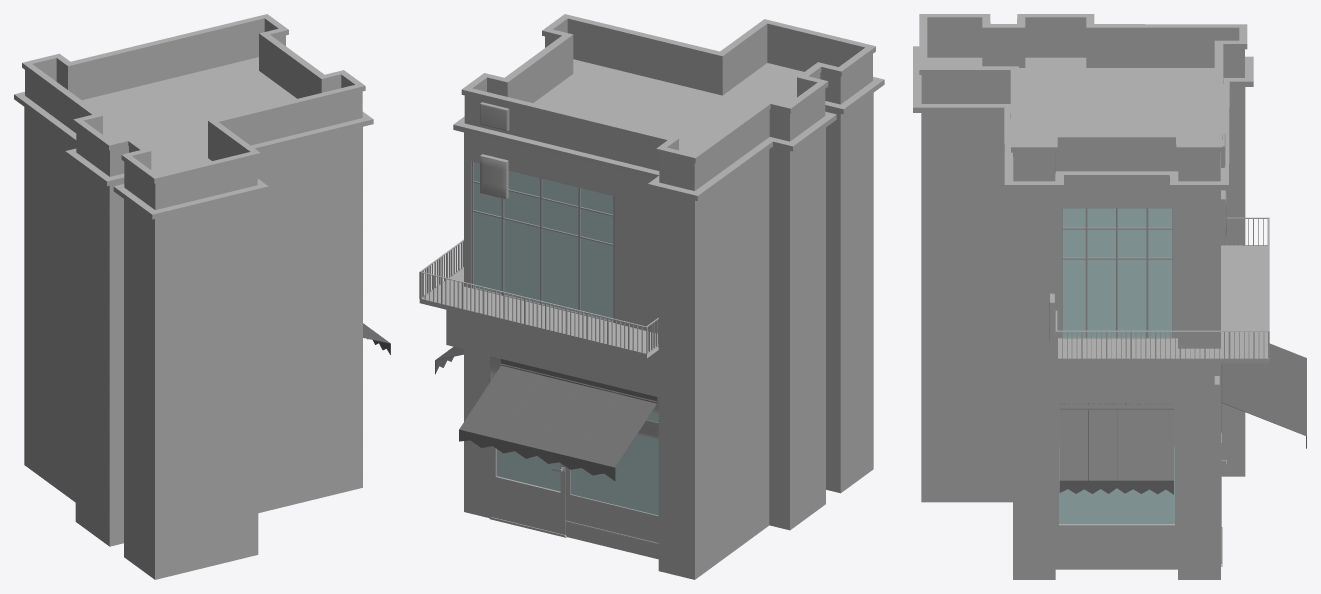
Rendered from house.fbx.
3 renders of one model, left to right at view 1: azimuth 30°, elevation 25°; view 2: azimuth 150°, elevation 25°; view 3: azimuth 270°, elevation 25°, orthographic. The views are drawn at different scales.
Visible parts, largest first — view 1: houseTop, wallPannel32 (×3), wallPannel34 (×3), wallPannel35 (×3), wallPannel33 (×3), wallPannel21 (×3), wallPannel20 (×3), wallPannel19 (×3), wallPannel22 (×3), wallPannel37 (×3), wallPannel26 (×3), wallPannel36 (×3) (+18 smaller); view 2: houseTop, windowPannel1, shelterLarge, wallPannel6 (×3), wallPannel16 (×3), wallPannel11 (×3), wallPannel29 (×3), wallPannel37 (×3), wallPannel36 (×3), wallPannel14 (×3), wallPannel13 (×3), wallPannel15 (×3) (+34 smaller); view 3: houseTop, windowPannel, wallPannel28 (×3), wallPannel31 (×3), wallPanels (×3), wallPannel7 (×3), shelterSmall, wallPannel25 (×3), glassFrame2, shelterLarge, windowFrame, wallPannel5 (×2) (+23 smaller).
Boxes of the visible parts, <box> form: houseTop: <box>14,14,373,219</box>; wallPannel32 (×3): <box>233,194,258,560</box>; wallPannel34 (×3): <box>184,206,209,572</box>; wallPannel35 (×3): <box>160,212,184,578</box>; wallPannel33 (×3): <box>209,200,233,566</box>; wallPannel21 (×3): <box>289,139,313,505</box>; wallPannel20 (×3): <box>314,133,338,499</box>; wallPannel19 (×3): <box>338,127,362,493</box>; wallPannel22 (×3): <box>265,145,289,511</box>; wallPannel37 (×3): <box>141,211,159,579</box>; wallPannel26 (×3): <box>107,182,124,546</box>; wallPannel36 (×3): <box>126,201,140,569</box>; houseTop: <box>453,14,884,200</box>; windowPannel1: <box>473,162,613,320</box>; shelterLarge: <box>459,359,656,481</box>; wallPannel6 (×3): <box>664,193,689,578</box>; wallPannel16 (×3): <box>769,147,792,530</box>; wallPannel11 (×3): <box>689,192,709,579</box>; wallPannel29 (×3): <box>825,110,843,493</box>; wallPannel37 (×3): <box>858,93,873,479</box>; wallPannel36 (×3): <box>843,104,858,490</box>; wallPannel14 (×3): <box>739,160,754,546</box>; wallPannel13 (×3): <box>724,171,739,557</box>; wallPannel15 (×3): <box>754,149,769,535</box>; houseTop: <box>913,14,1253,190</box>; windowPannel: <box>1062,208,1172,336</box>; wallPannel28 (×3): <box>958,113,988,502</box>; wallPannel31 (×3): <box>927,113,957,502</box>; wallPanels (×3): <box>1019,190,1049,579</box>; wallPannel7 (×3): <box>1184,190,1214,579</box>; shelterSmall: <box>1059,403,1173,494</box>; wallPannel25 (×3): <box>988,113,1012,502</box>; glassFrame2: <box>1055,403,1177,569</box>; shelterLarge: <box>1221,343,1306,448</box>; windowFrame: <box>1055,180,1177,338</box>; wallPannel5 (×2): <box>1221,87,1245,476</box>.
Bounding box in the file's own units: 6.24 × 7.82 × 6.44.
